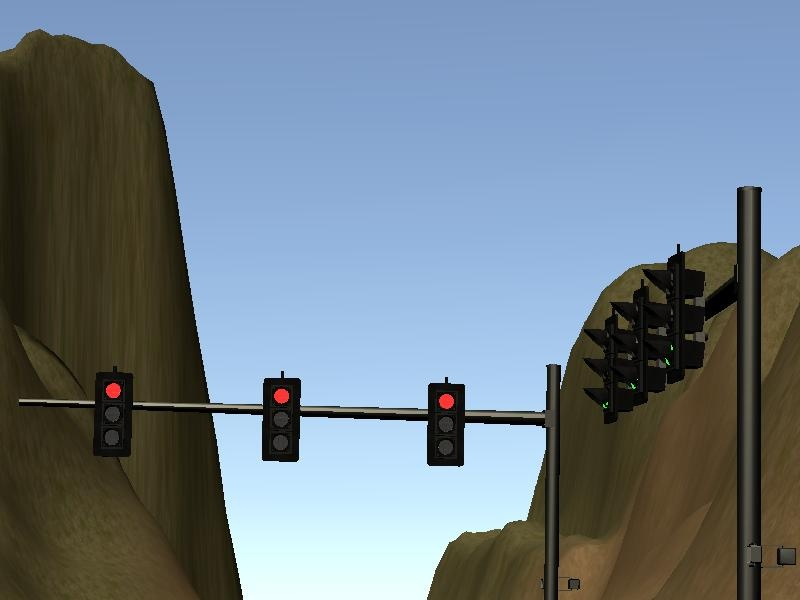red: (254, 369, 305, 464), (420, 377, 468, 471), (90, 369, 138, 460)
